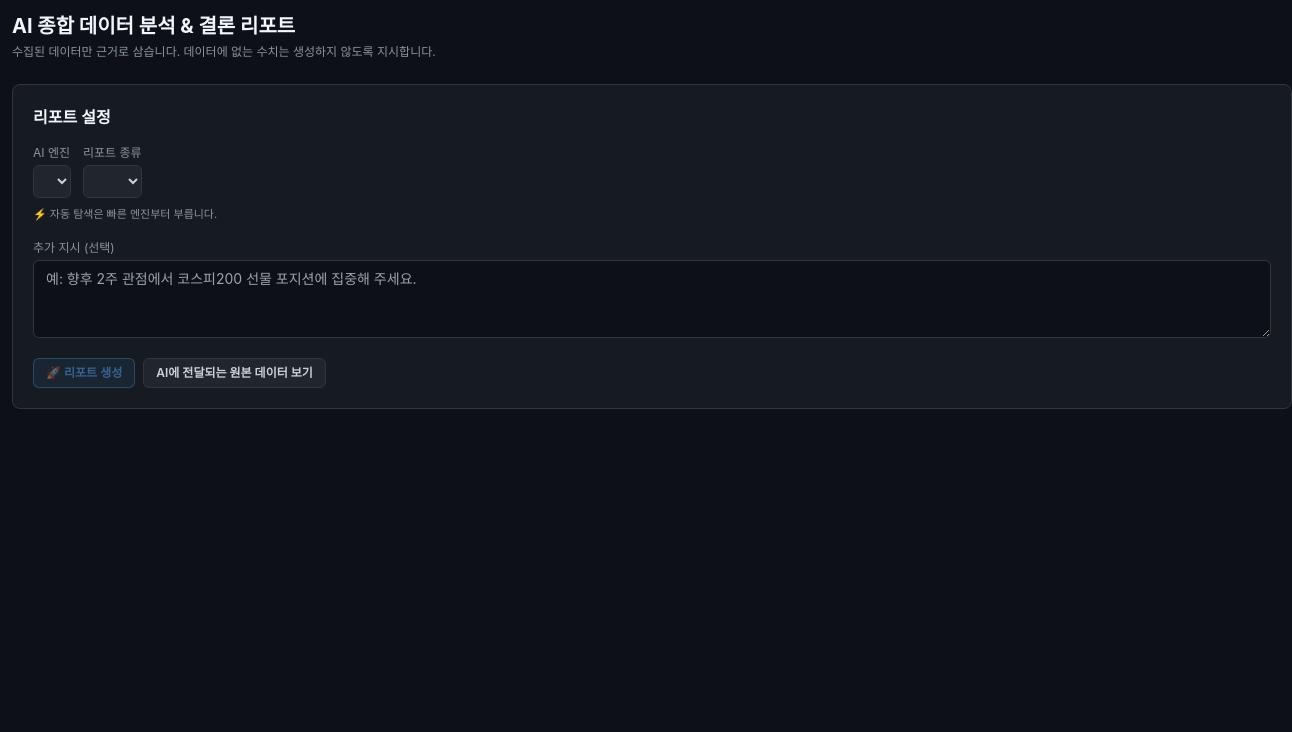
Test case: QA-132 AI 리포트 — 원본 텍스트를 받지 못하면 이유를 보인다 › 원본 데이터 카드에 오류와 다시 시도
Click the button "AI에 전달되는 원본 데이터 보기": coordinates (234, 373) left=143, top=358, right=326, bottom=388
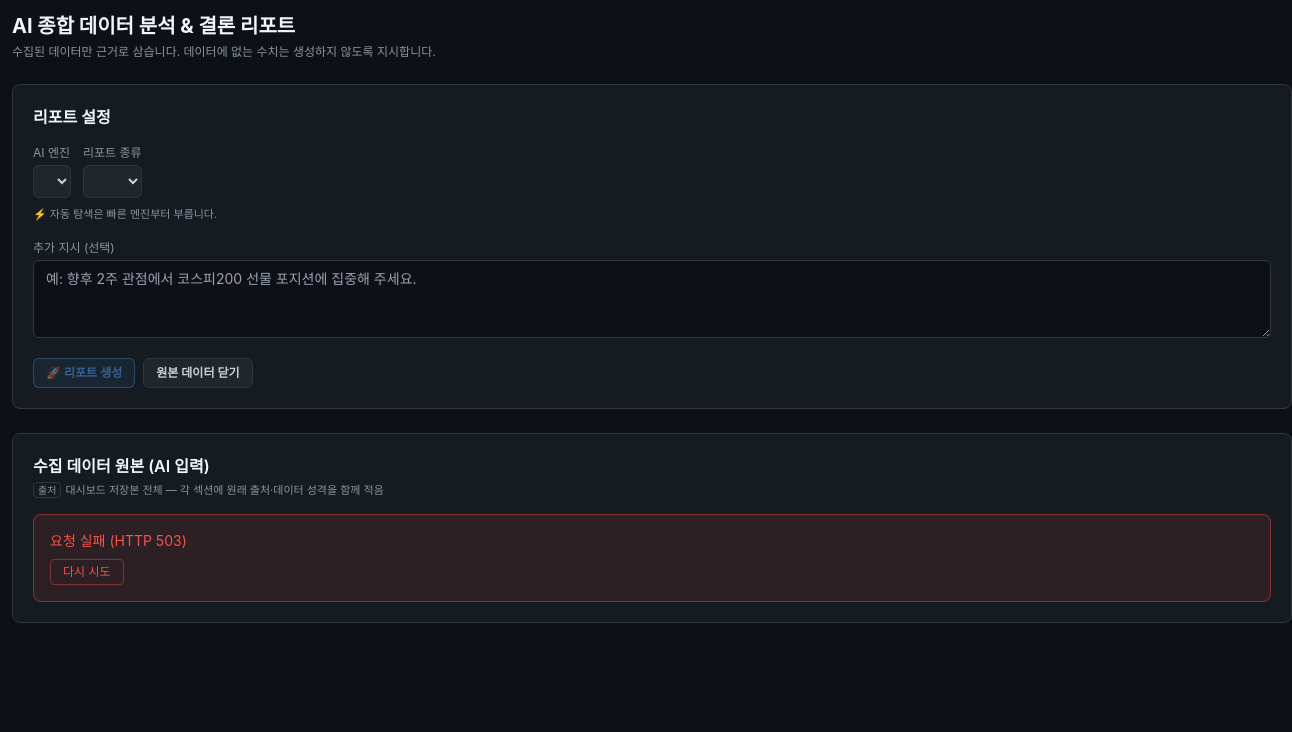
Check: the text "요청 실패 (HTTP 503)" is shown, box left=50, top=532, right=187, bottom=549
Check: the button "다시 시도" is shown, box left=50, top=559, right=124, bottom=585
